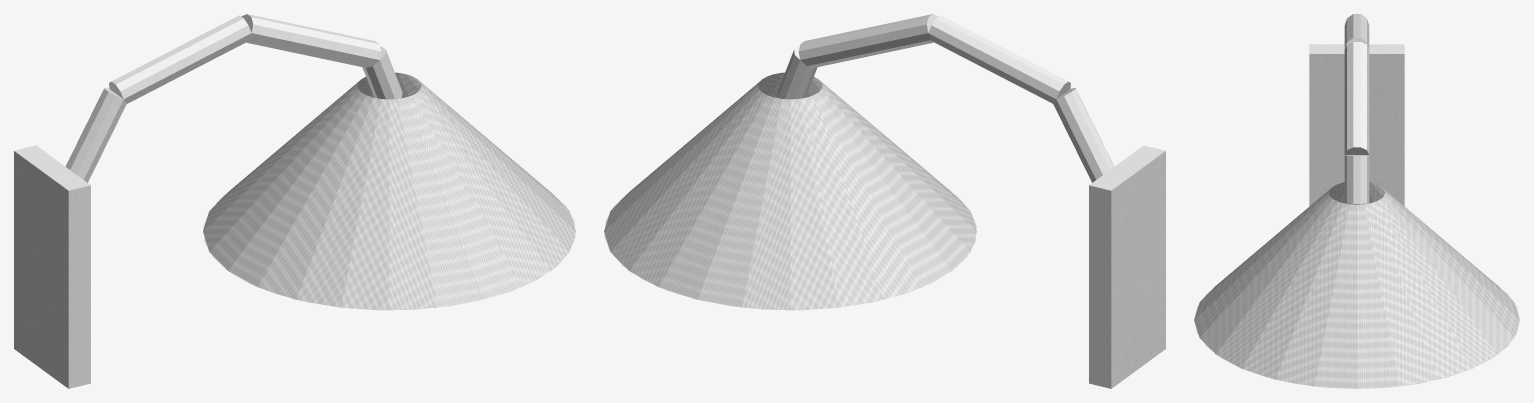
File: gooseneckbarnlight.obj
3 views of the same model, side by side, from view 1: azimuth 30°, elevation 25°; view 2: azimuth 150°, elevation 25°; view 3: azimuth 270°, elevation 25° (orthographic). The views are drawn at different scales.
Parts seen in each view (by area): view 1: Shade, Base, Metal; view 2: Shade, Base, Metal; view 3: Shade, Base, Metal, Trim.
Boxes of the visible parts, box(x1,y1,x2,y2) form: Shade: box(203, 72, 575, 310); Base: box(14, 145, 90, 388); Metal: box(65, 14, 402, 182); Shade: box(604, 72, 976, 310); Base: box(1089, 145, 1165, 388); Metal: box(777, 14, 1114, 182); Shade: box(1194, 182, 1519, 388); Base: box(1309, 44, 1404, 206); Metal: box(1344, 14, 1369, 203); Trim: box(1194, 289, 1519, 388).
Size of the model in its own units: 0.915 by 0.5202 by 0.58.
